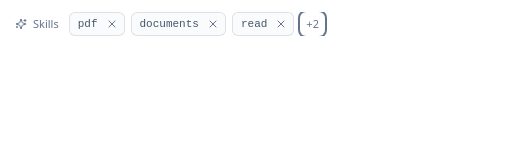
Test case: ActiveSkillsSlot › reveals additional skills and collapses them while retaining keyboard focus
Step 1. Click the button "+2" → (313, 24), box [300,12,325,36]
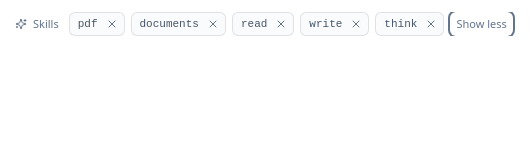
Result: the number of list items is 5 at [69,12,124,36]; [130,12,226,36]; [232,12,294,36]; [300,12,369,36]; [375,12,444,36]
Result: the button "Show less" is shown
Result: the button "Show less" is expanded
Step 2. Click the button "Show less" → (482, 24), box [450,12,513,36]
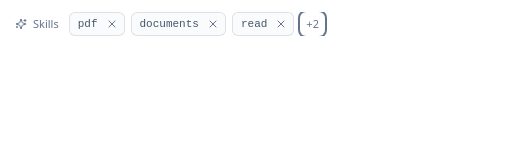
Expected: the number of list items is 3, [69,12,124,36]; [130,12,226,36]; [232,12,294,36]
Result: the button "+2" is collapsed at [300,12,325,36]
